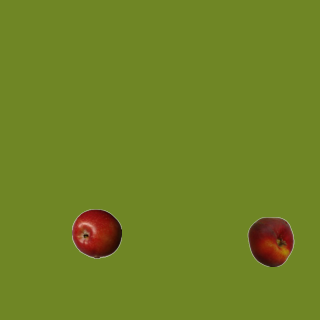Apple Braeburn: (71, 208, 121, 258)
Nectarine Flat: (245, 216, 295, 266)
